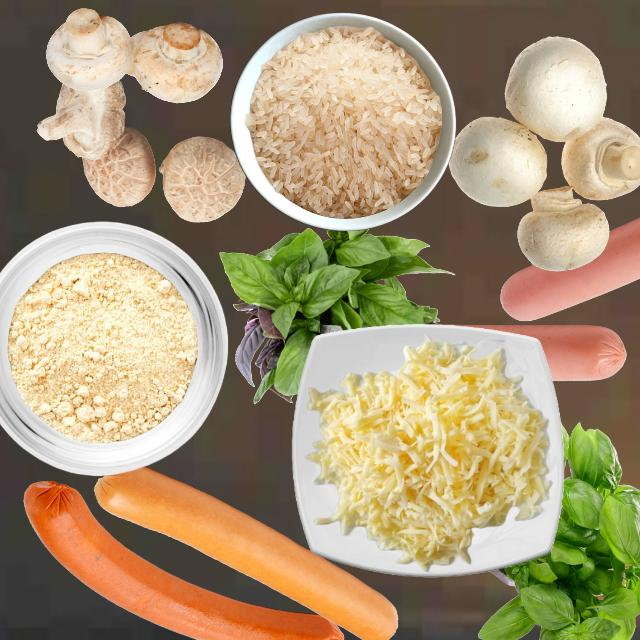Flour: (7, 251, 197, 443)
